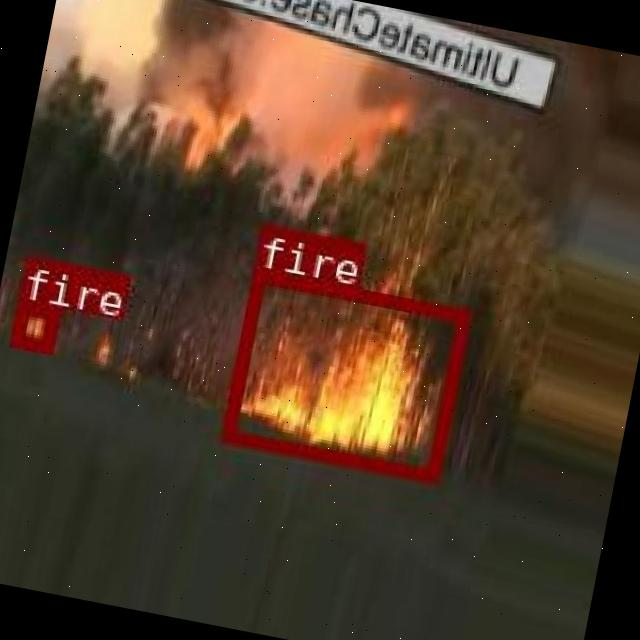fire: (220, 268, 468, 480), (9, 298, 59, 350)
